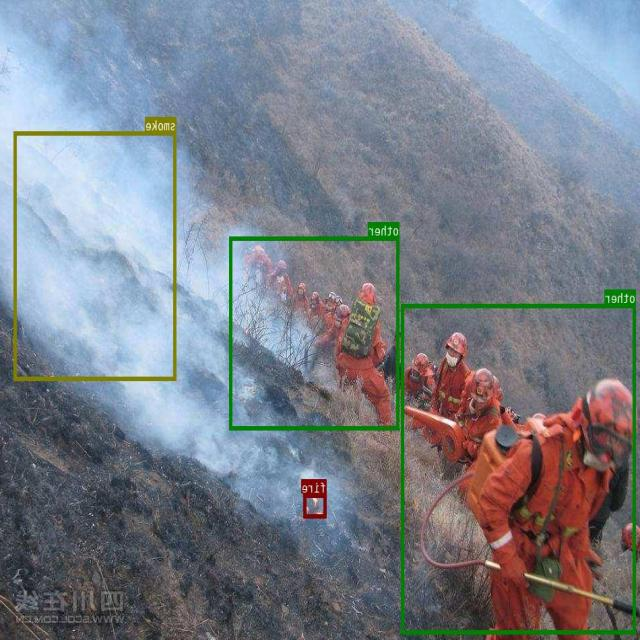fire: (304, 494, 327, 517)
other: (402, 303, 636, 634), (230, 236, 400, 429)
smoke: (14, 130, 177, 380)
